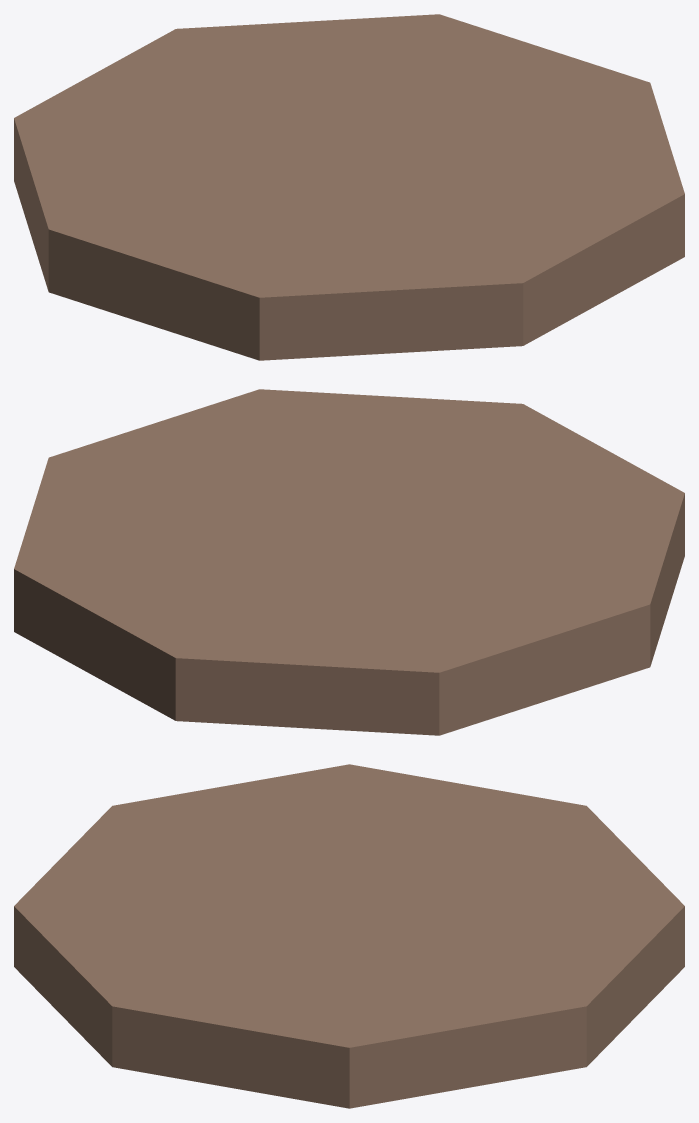
Rendered from UvmappedBase.fbx.
3 renders of one model, top to bottom at view 1: azimuth 30°, elevation 25°; view 2: azimuth 150°, elevation 25°; view 3: azimuth 270°, elevation 25°, orthographic. The views are drawn at different scales.
Parts seen in each view (by area): view 1: ritual_base; view 2: ritual_base; view 3: ritual_base.
Part boxes in pixels (x1,y1,x2,y2): ritual_base: (14, 14, 684, 360); ritual_base: (14, 389, 684, 735); ritual_base: (14, 764, 684, 1108).
Bounding box in the file's own units: 10 × 1 × 10.
